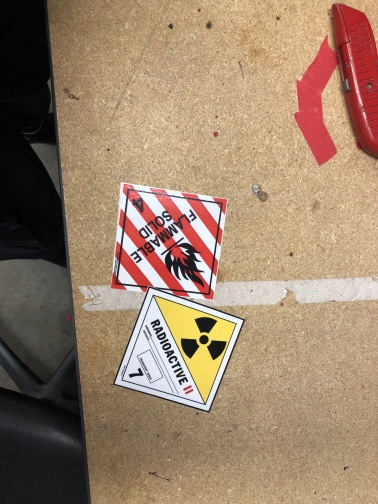FlammableSolid: (110, 182, 229, 301)
Radioactive: (112, 287, 245, 414)
